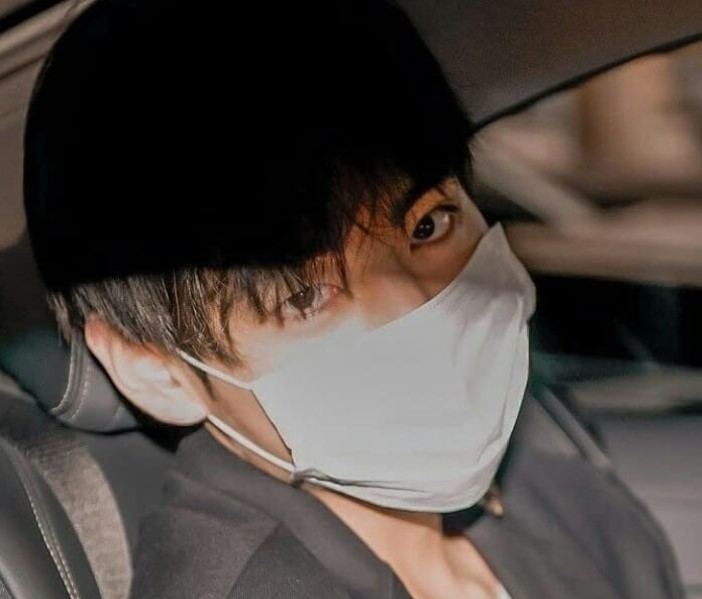face_with_mask: (81, 68, 543, 514)
